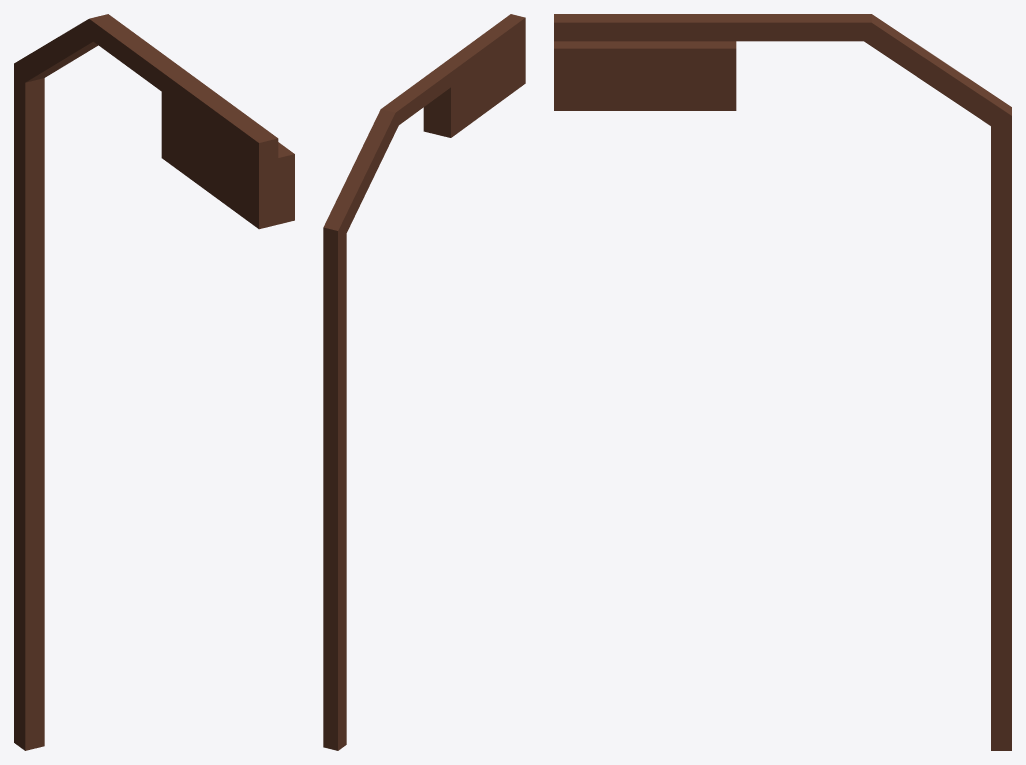
The model's file is Prop_Traffic_Light_A_Pole_col.fbx.
The picture shows the model from 3 angles, left to right: view 1: azimuth 30°, elevation 25°; view 2: azimuth 150°, elevation 25°; view 3: azimuth 270°, elevation 25°; orthographic projection. The views are drawn at different scales.
Visible parts, largest first — view 1: Prop_Traffic_Light_A_Pole_col; view 2: Prop_Traffic_Light_A_Pole_col; view 3: Prop_Traffic_Light_A_Pole_col.
Part boxes in pixels (left/top/right/bottom): Prop_Traffic_Light_A_Pole_col: left=14, top=14, right=294, bottom=750; Prop_Traffic_Light_A_Pole_col: left=323, top=14, right=525, bottom=750; Prop_Traffic_Light_A_Pole_col: left=554, top=14, right=1011, bottom=750.
Bounding box in the file's own units: 27.89 × 578 × 330.
